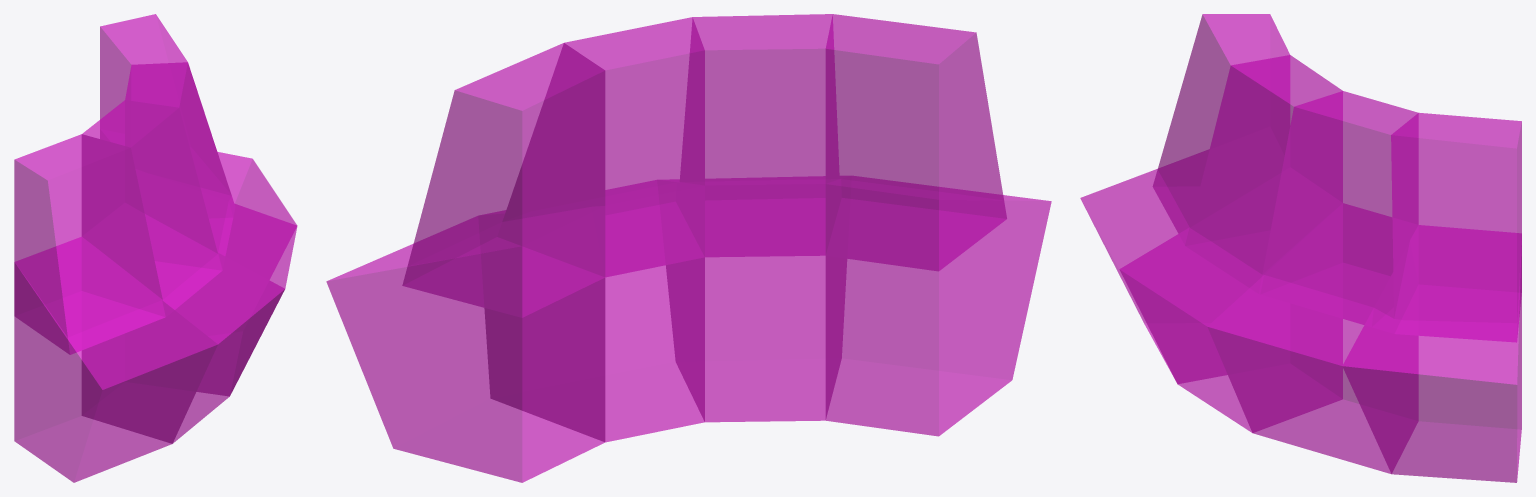
File: SM_Bld_Wall_L_Curve_07_Collision.fbx
The picture shows the model from 3 angles, left to right: view 1: azimuth 30°, elevation 25°; view 2: azimuth 150°, elevation 25°; view 3: azimuth 270°, elevation 25°; orthographic projection. The views are drawn at different scales.
Parts seen in each view (by area): view 1: SM_Bld_Wall_L_Curve_07_Collision; view 2: SM_Bld_Wall_L_Curve_07_Collision; view 3: SM_Bld_Wall_L_Curve_07_Collision.
Part boxes in pixels (<box>): SM_Bld_Wall_L_Curve_07_Collision: <box>14,14,297,482</box>; SM_Bld_Wall_L_Curve_07_Collision: <box>326,14,1051,482</box>; SM_Bld_Wall_L_Curve_07_Collision: <box>1080,14,1521,482</box>.
Size of the model in its own units: 398 by 306 by 396.
